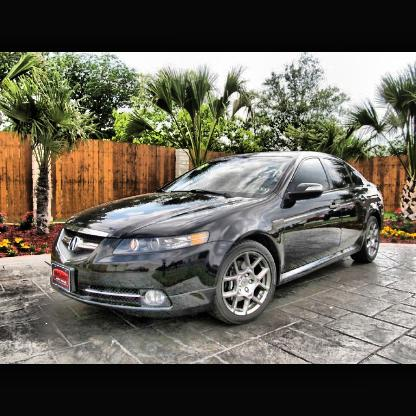Acura TL Type-S 2008: (52, 152, 387, 326)
